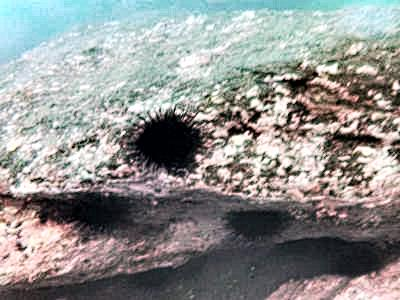urchin: (122, 106, 207, 171), (46, 192, 131, 236), (220, 210, 283, 241)
